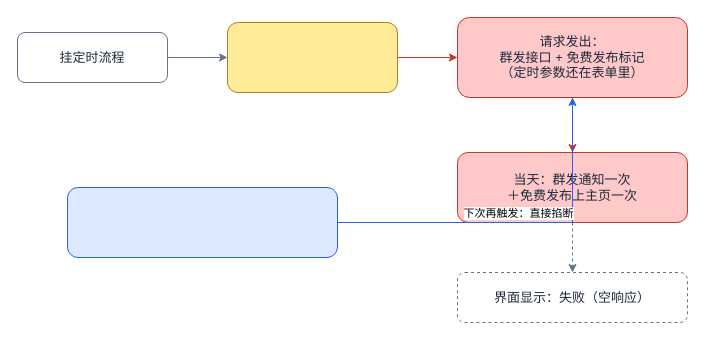
The diagram is 705 pixels wide and 340 high, and some of its shapes have lost their labels. Each missing label, with the box of its shape:
修复：网络层熔断 凡携带免费发布标记的群发请求一律掐断: (66, 186, 338, 258)
确认弹窗切到 发布页变体: (226, 22, 398, 92)
